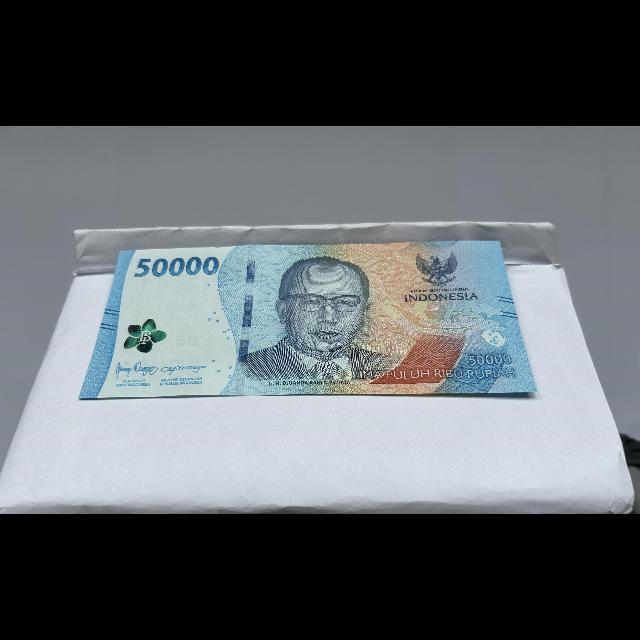Asli-50k: (74, 237, 536, 400)
Tinta-Asli-50k: (121, 312, 172, 361)
